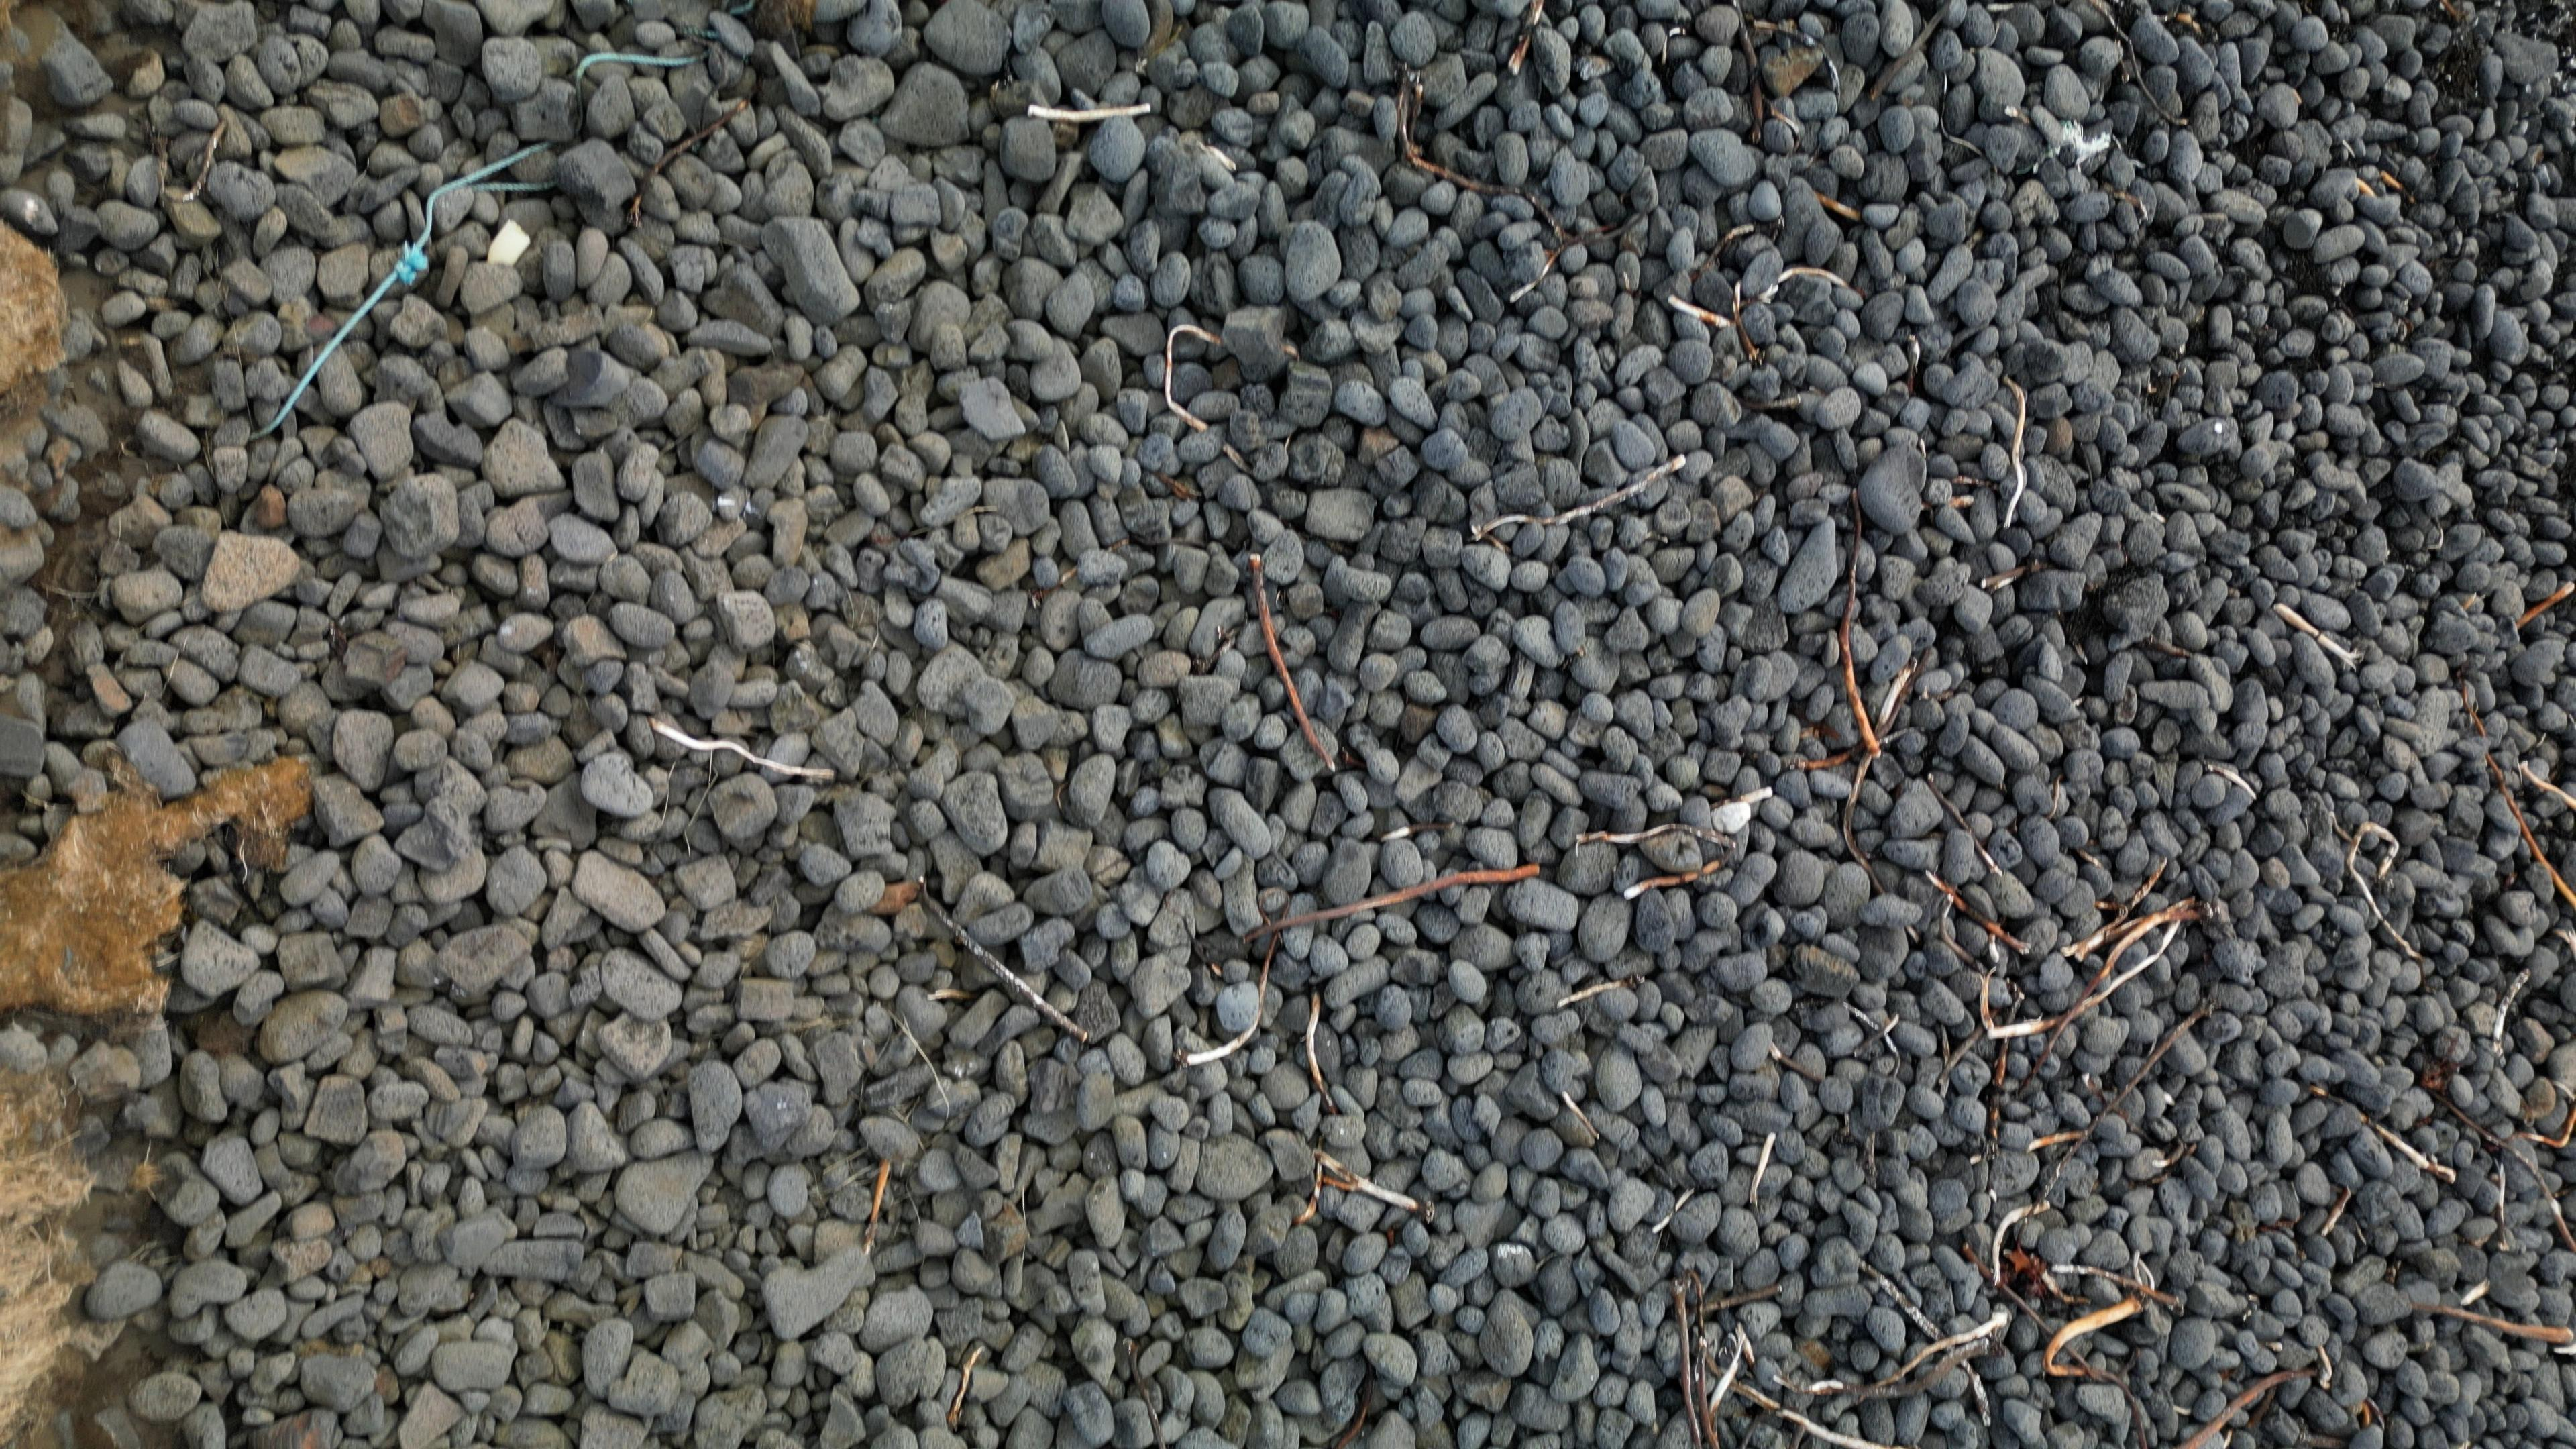trash: (276, 141, 553, 423), (574, 46, 690, 80)
